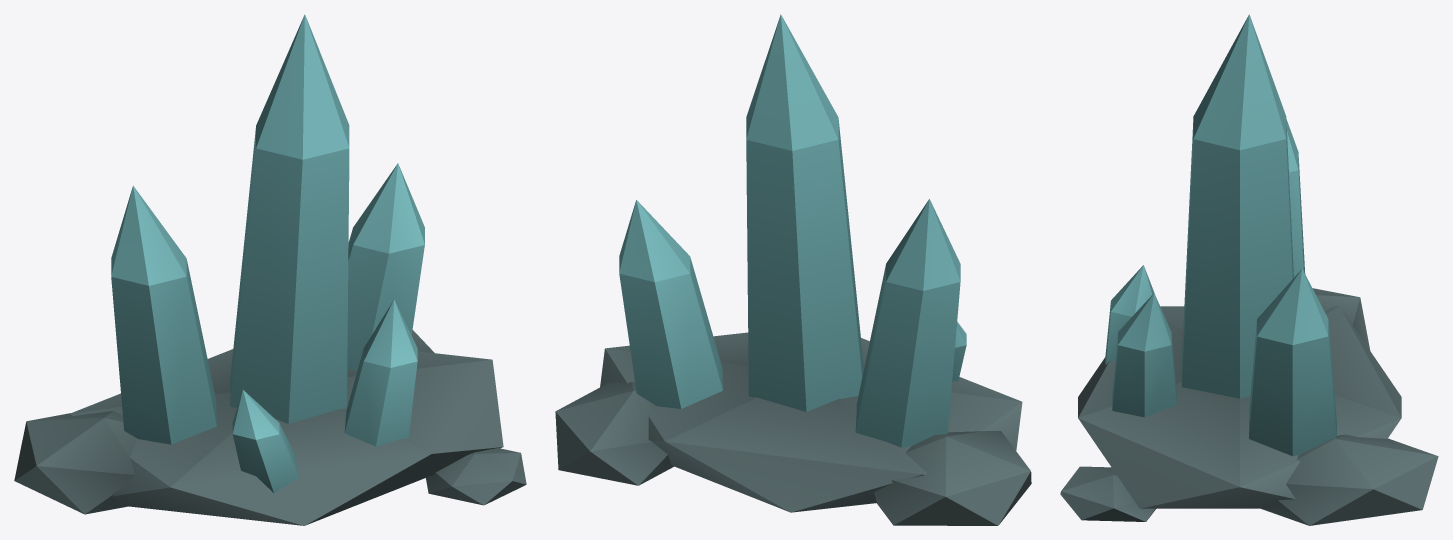
File: skyreach-gale-deposit-v1.glb
3 renders of one model, left to right at view 1: azimuth 30°, elevation 25°; view 2: azimuth 150°, elevation 25°; view 3: azimuth 270°, elevation 25°, orthographic.
Visible parts, largest first — view 1: GB_GALE_CRYSTAL, GB_GALE_STONE; view 2: GB_GALE_CRYSTAL, GB_GALE_STONE; view 3: GB_GALE_CRYSTAL, GB_GALE_STONE.
Part boxes in pixels (<box>): GB_GALE_CRYSTAL: <box>111,14,424,493</box>; GB_GALE_STONE: <box>14,330,526,525</box>; GB_GALE_CRYSTAL: <box>619,14,966,447</box>; GB_GALE_STONE: <box>555,332,1031,525</box>; GB_GALE_CRYSTAL: <box>1105,14,1336,456</box>; GB_GALE_STONE: <box>1060,288,1438,525</box>.
Bounding box in the file's own units: 0.9637 × 0.94 × 0.7156.
